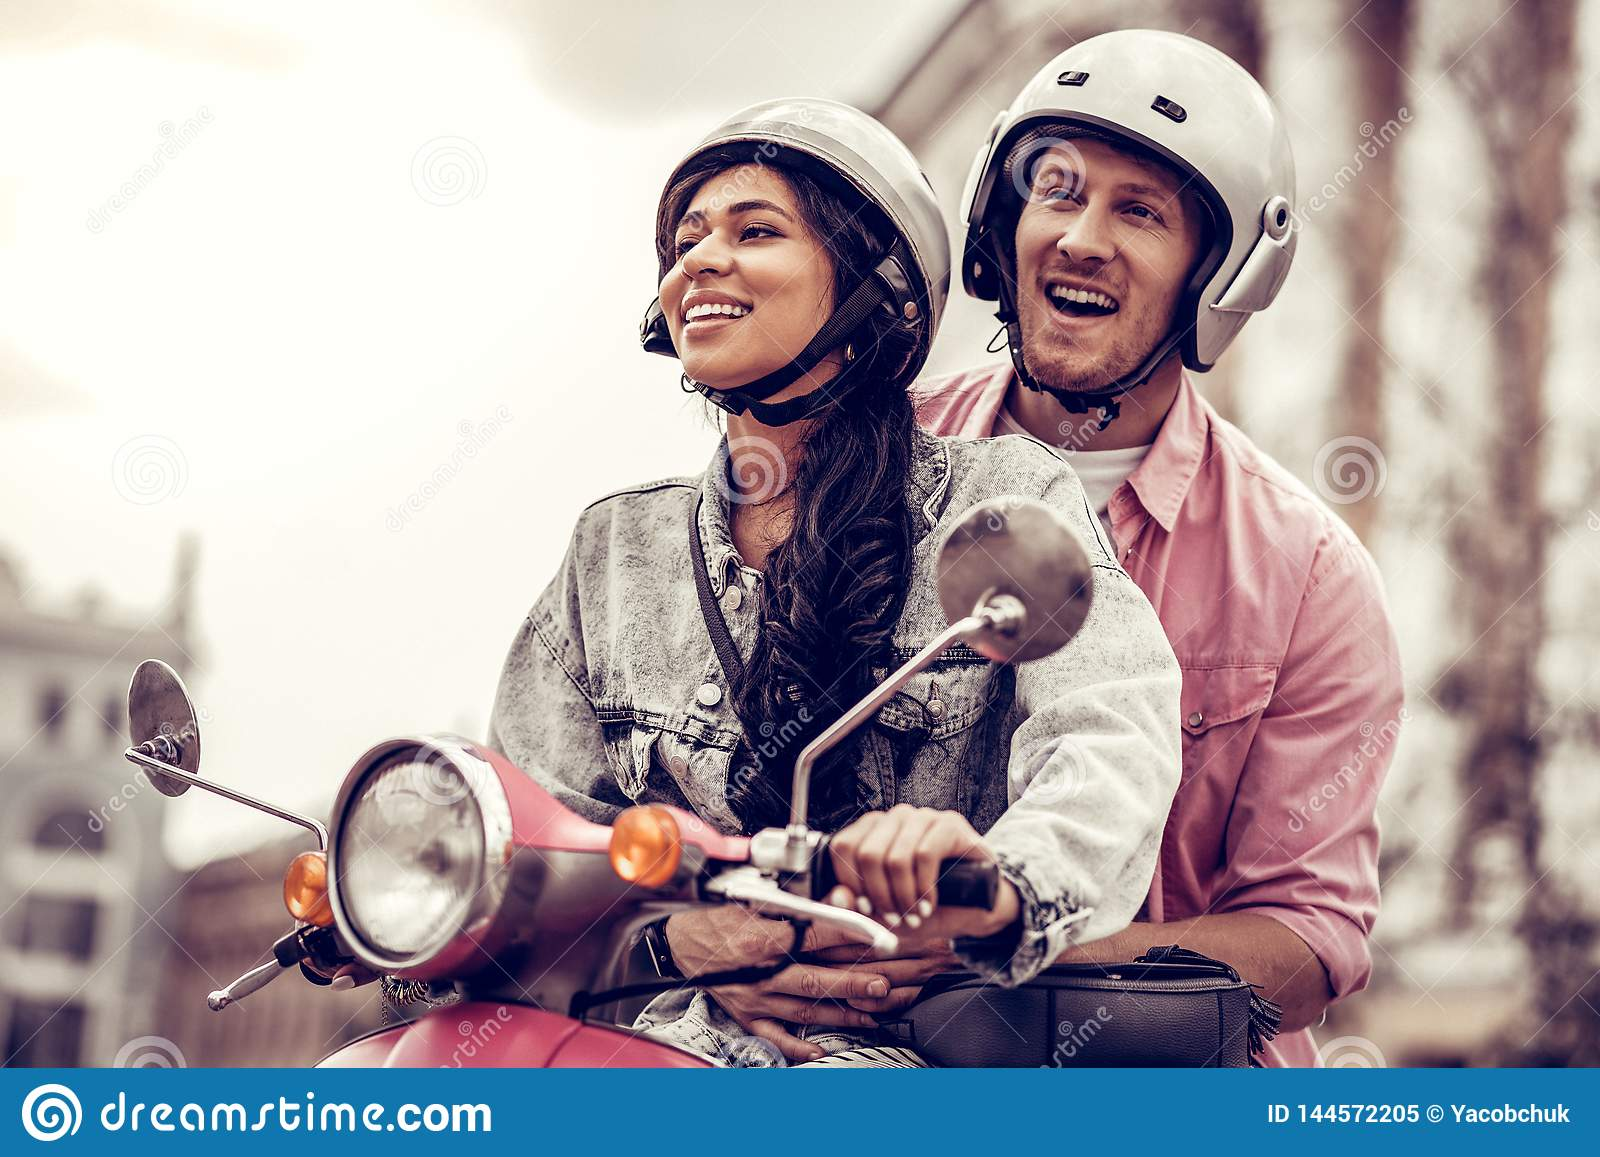helmet: (968, 25, 1325, 334), (650, 77, 989, 319)
